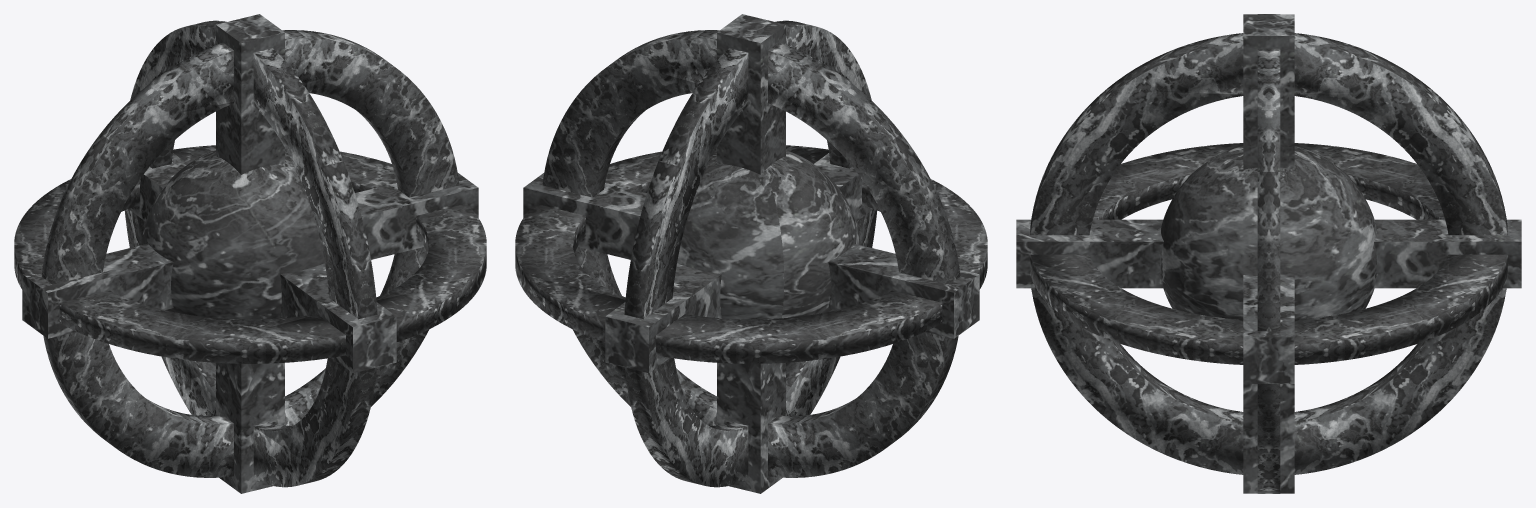
File: king.glb
3 renders of one model, left to right at view 1: azimuth 30°, elevation 25°; view 2: azimuth 150°, elevation 25°; view 3: azimuth 270°, elevation 25°, orthographic.
Parts seen in each view (by area): view 1: king; view 2: king; view 3: king.
Boxes of the visible parts, bbox=[...] form: king: bbox=[14, 14, 486, 493]; king: bbox=[515, 14, 987, 493]; king: bbox=[1016, 14, 1521, 493].
Bounding box in the file's own units: 4.48 × 4.48 × 4.48.
Materials: 1 (1 with a texture image).
